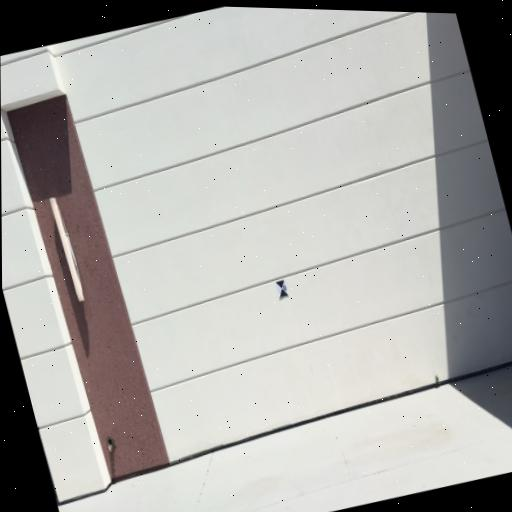target0: (275, 280, 289, 299)
